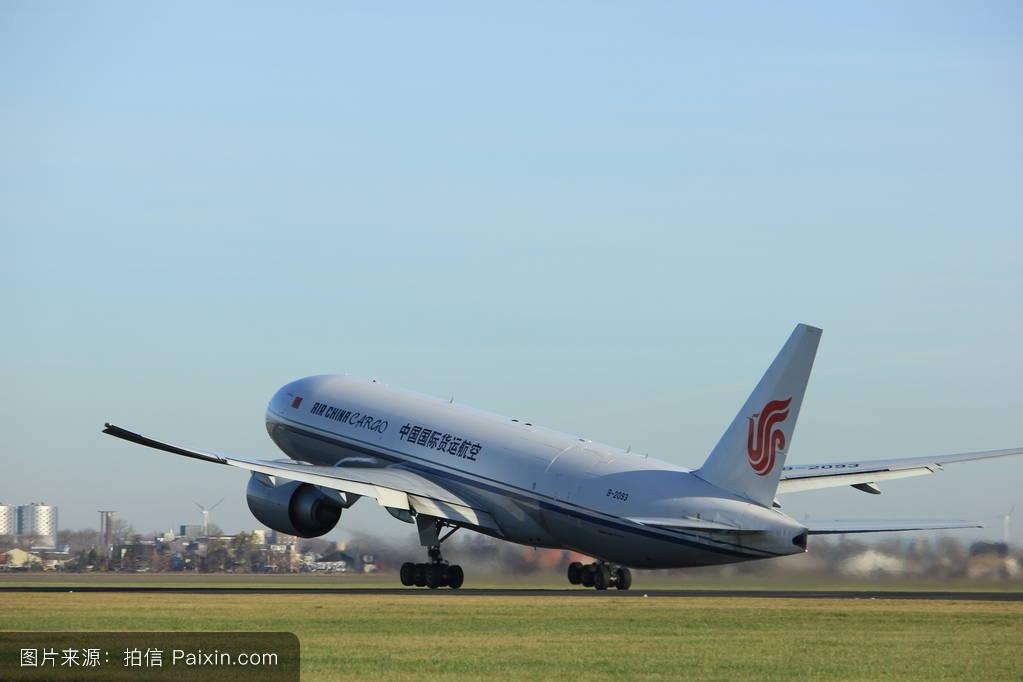airplane: (64, 323, 1022, 567)
